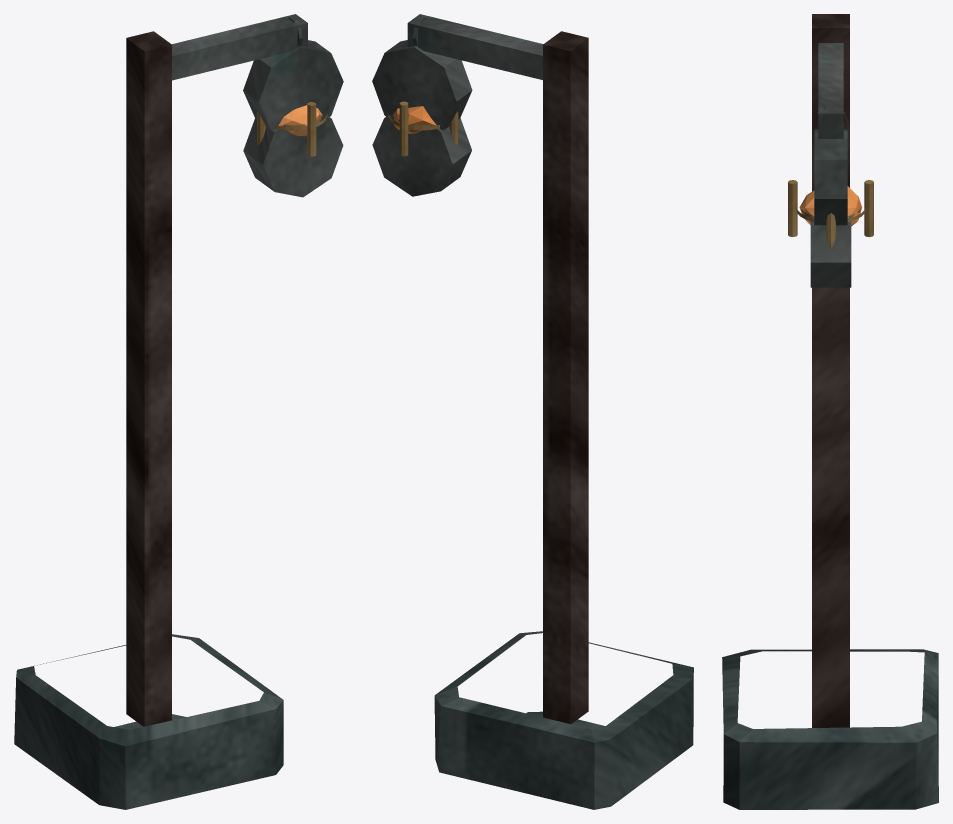
Rendered from 0703_lantern_post_03.glb.
3 views of the same model, side by side, from view 1: azimuth 30°, elevation 25°; view 2: azimuth 150°, elevation 25°; view 3: azimuth 270°, elevation 25° (orthographic). The views are drawn at different scales.
Visible parts, largest first — view 1: wood_dark, stone_dark, iron, brass; view 2: wood_dark, stone_dark, iron, brass; view 3: stone_dark, wood_dark, iron, brass, amber.
Part boxes in pixels (x1,y1,x2,y2): wood_dark: (126, 31, 171, 726); stone_dark: (14, 634, 283, 809); iron: (172, 14, 343, 197); brass: (257, 102, 327, 156); wood_dark: (543, 31, 588, 723); stone_dark: (434, 631, 693, 809); iron: (372, 14, 543, 196); brass: (388, 101, 458, 156); stone_dark: (722, 649, 938, 809); wood_dark: (812, 14, 849, 727); iron: (810, 43, 851, 287); brass: (788, 180, 873, 247); amber: (799, 186, 861, 226).
Size of the model in its own units: 1.31 by 3.25 by 0.8504.
Materials: 5 (5 with a texture image).
